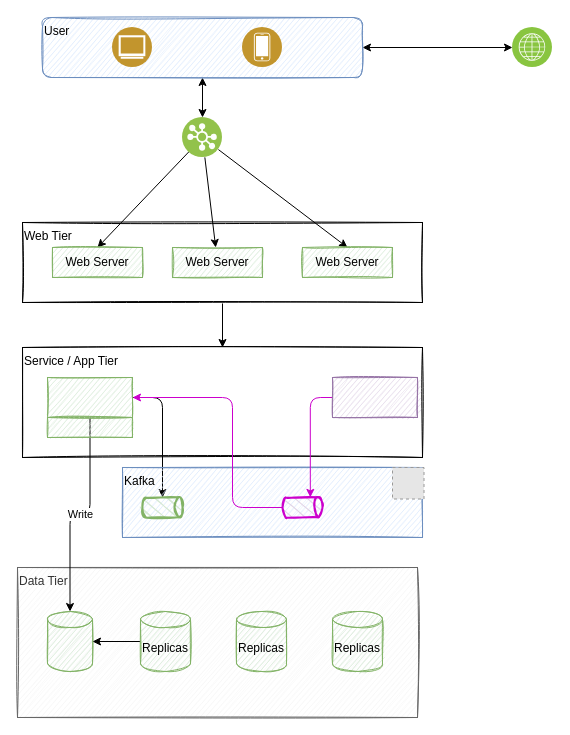
This 570x735 diagram has some shape labels left out. Grey dashed boxes stand in for pictures. The centre of each missing label's shape, as x and y in pixels:
Cache: the point at 89,427
DNS: the point at 532,47
event-driven app: the point at 89,397
Load Balancer: the point at 202,137
Master: the point at 69,641
Mirror Maker: the point at 375,397
